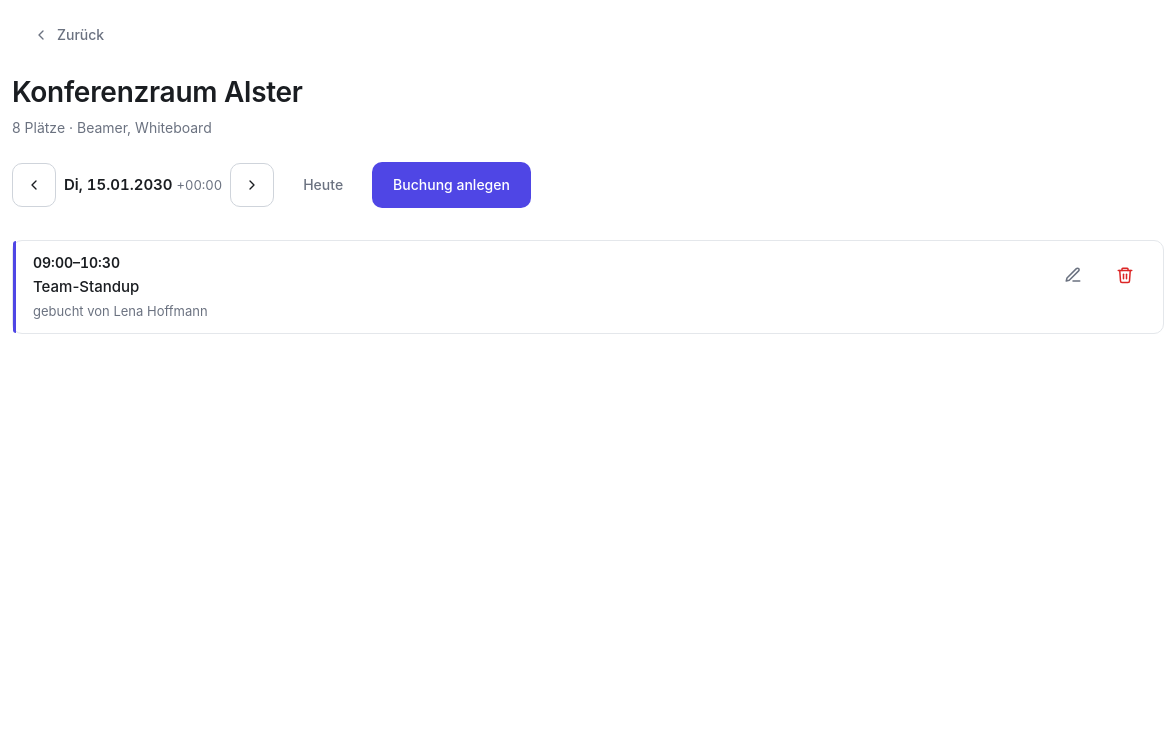
Test case: RoomDay booking form › shows the colliding booking and keeps the entered values on a 409
Expected: the text "Team-Standup" is shown, [33,277,139,296]
Click the button "Buchung anlegen" at x=452, y=185, box [372,162,531,208]
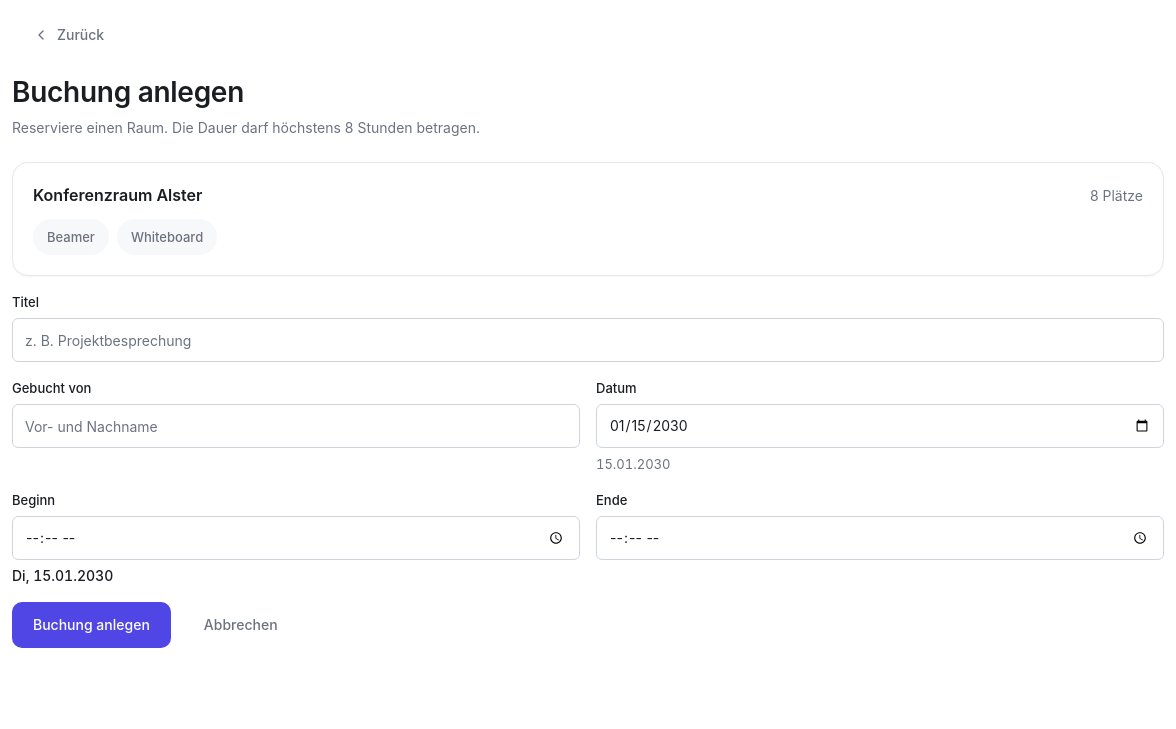
Expected: the heading "Buchung anlegen" is shown, [12,75,244,109]
Type "Projektbesprechung" into the field labelled "Titel" at x=588, y=340, box [12,318,1164,362]
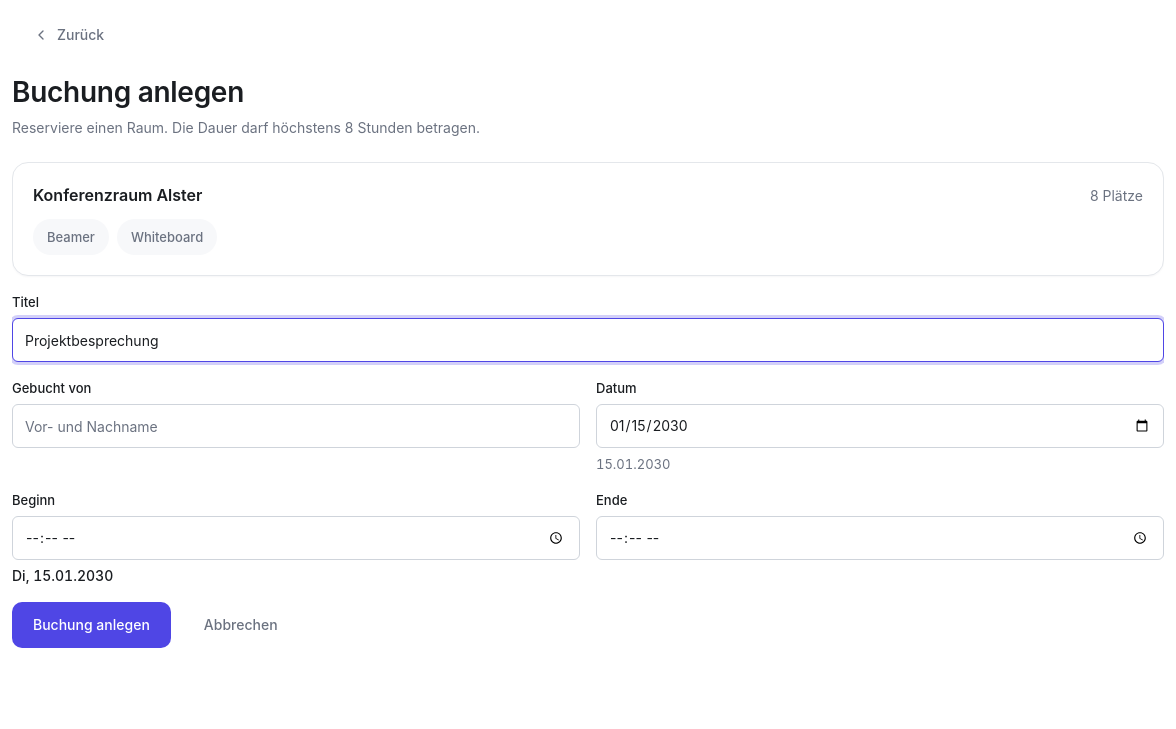
Type "Max Mustermann" into the field labelled "Gebucht von" at x=296, y=426, box [12,404,580,448]
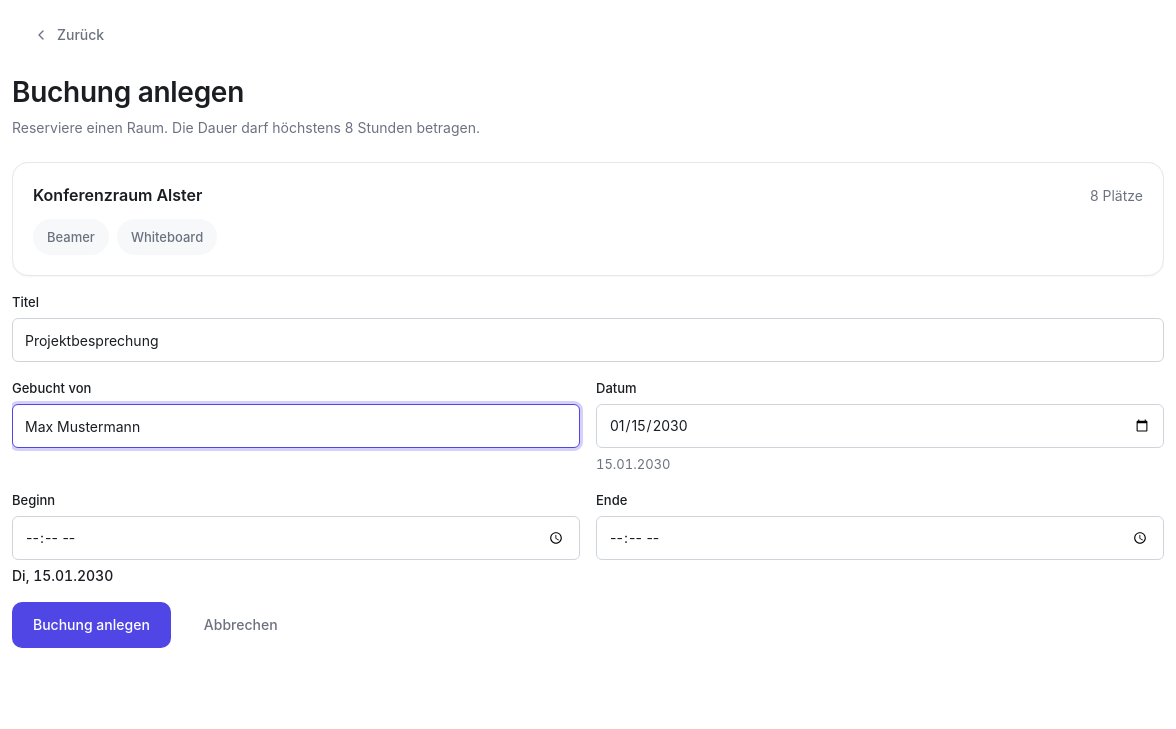
Type "09:00" into the time field labelled "Beginn" at x=296, y=538, box [12,516,580,560]
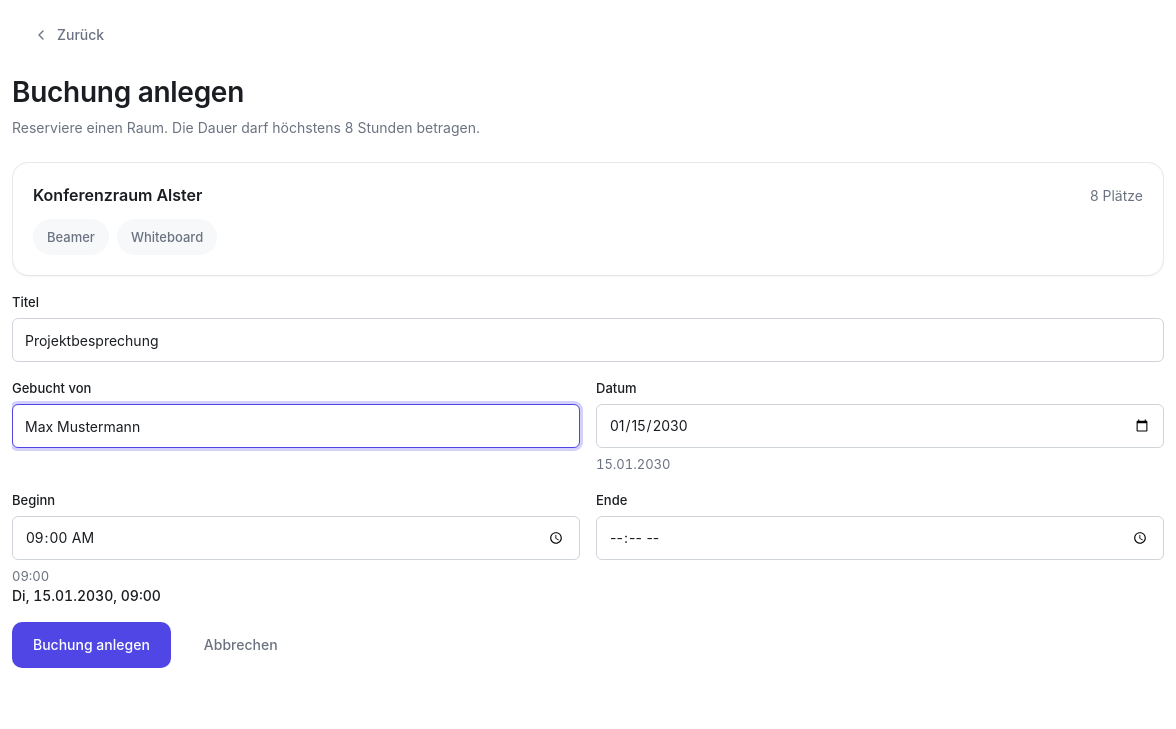
Type "10:00" into the time field labelled "Ende" at x=880, y=538, box [596,516,1164,560]
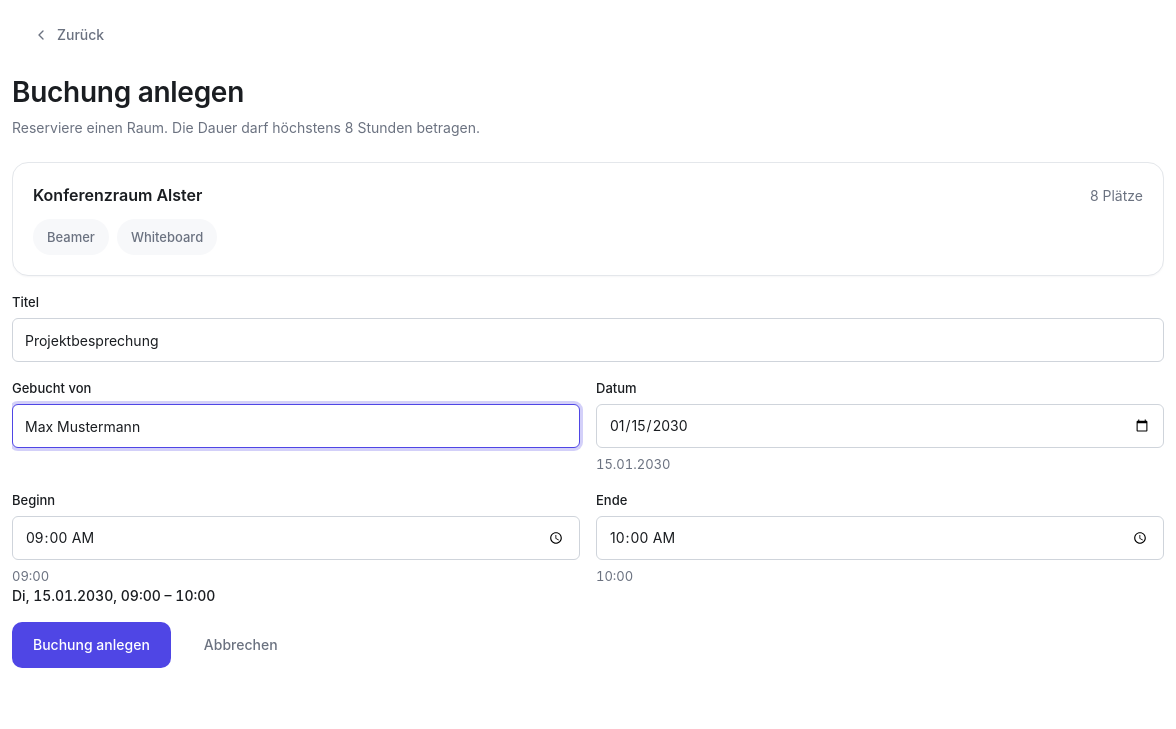
Click the button "Buchung anlegen" at x=91, y=645, box [12,622,171,668]
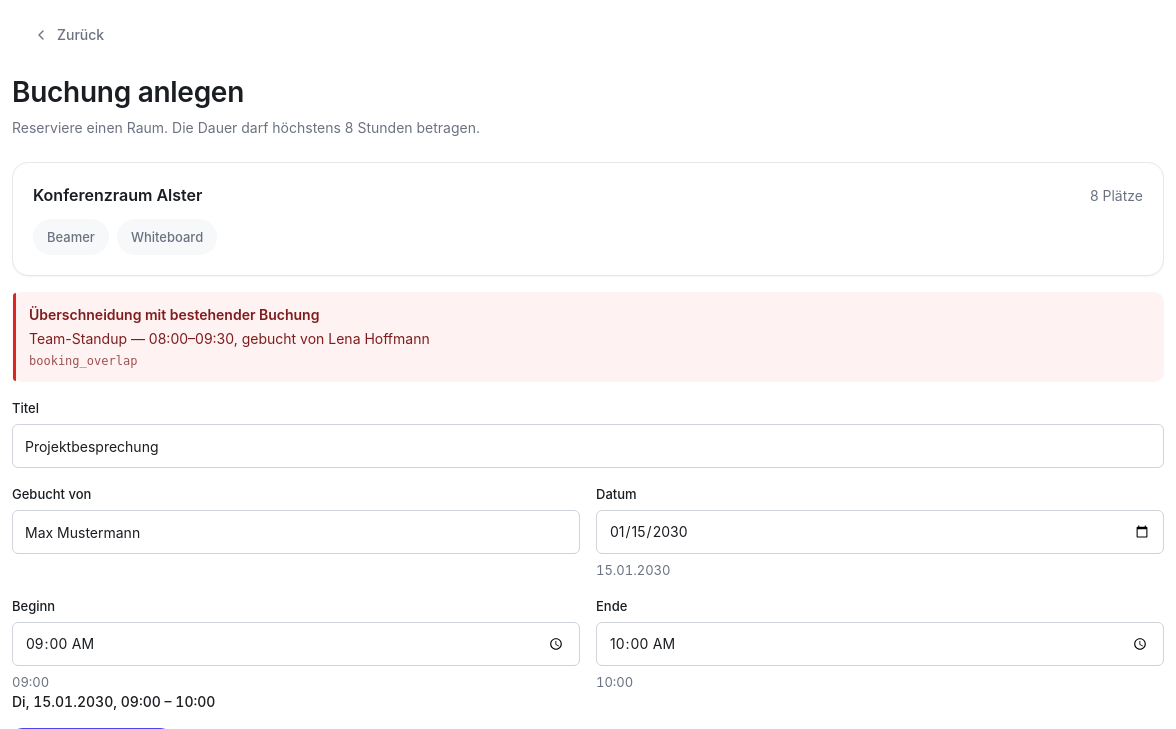
Expected: the text "Überschneidung mit bestehender Buchung" is shown, [29,305,319,325]
Expected: the text "Team-Standup — 08:00–09:30, gebucht von Lena Hoffmann" is shown, [29,329,430,349]
